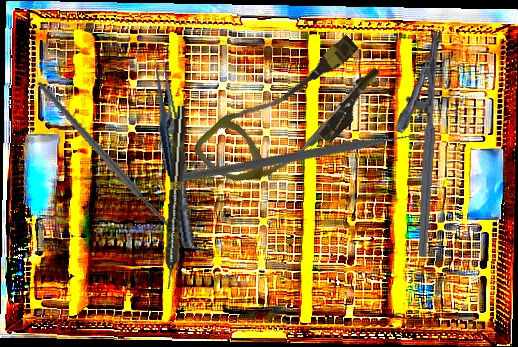Cannula: (190, 17, 393, 215)
Chopper: (169, 33, 434, 294)
Handpiece: (160, 105, 190, 290)
Hook Surgical: (37, 55, 202, 275)
Needle Holder: (385, 28, 445, 257)
Tissue Forceps: (145, 55, 203, 250)
